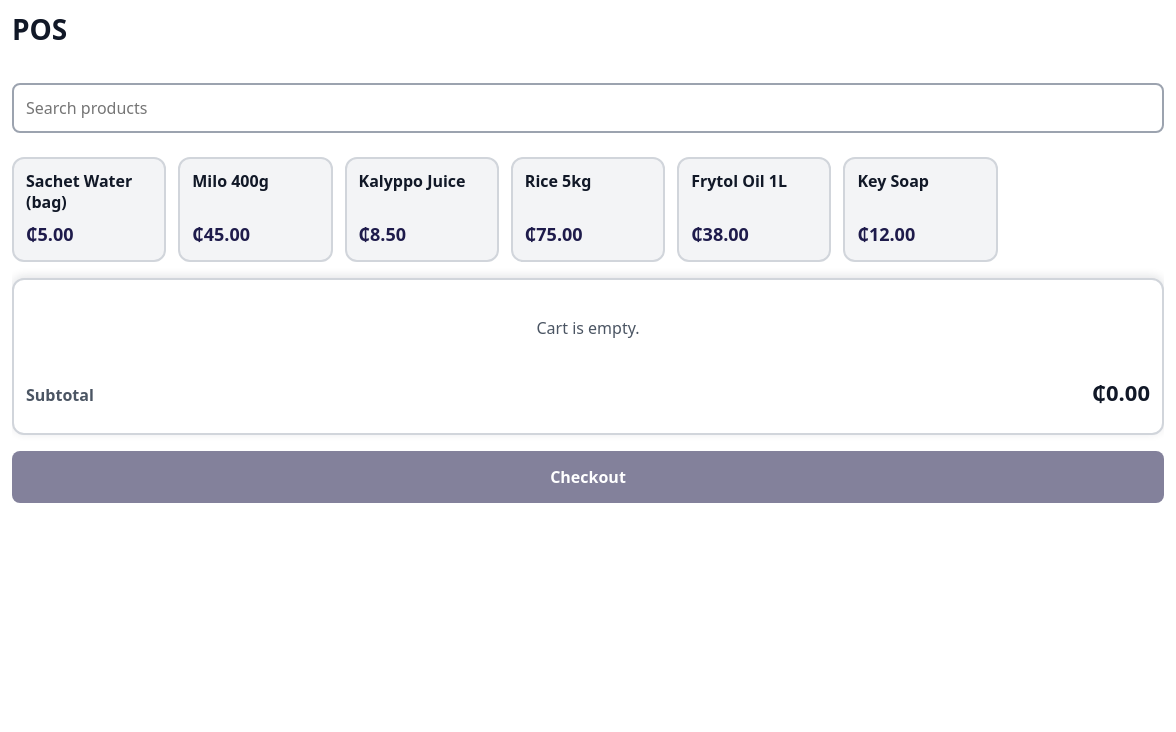
Test: PosScreen — product search › matches on SKU, not just the name
This screenshot has width=1176, height=732.
In the search field labelled "Search products": (588, 108) x1=12 y1=83 x2=1164 y2=133, type "KEYSOAP"
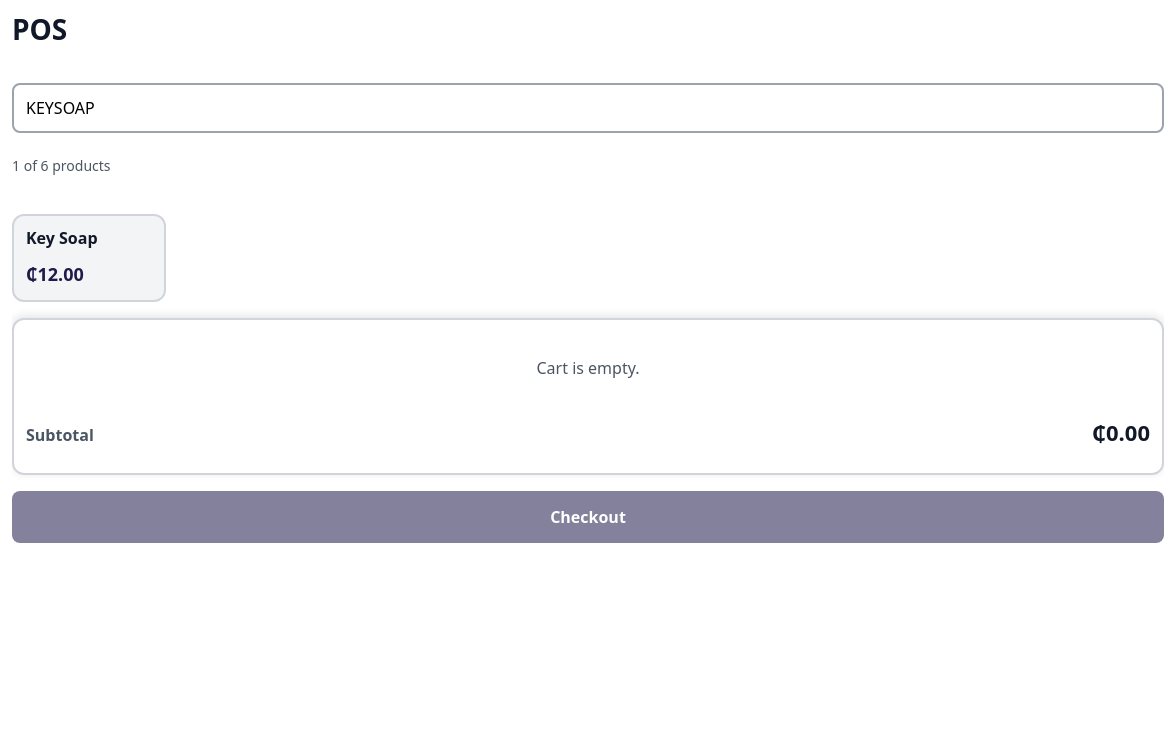
expect the button "Key Soap ₵12.00" is shown: met, box x1=12 y1=214 x2=166 y2=302
expect the button "Milo 400g" is gone: met
